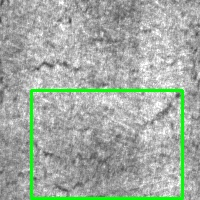crazing: (31, 90, 182, 198)
